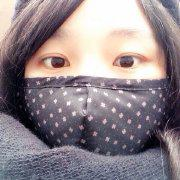OK: (34, 23, 163, 154)
